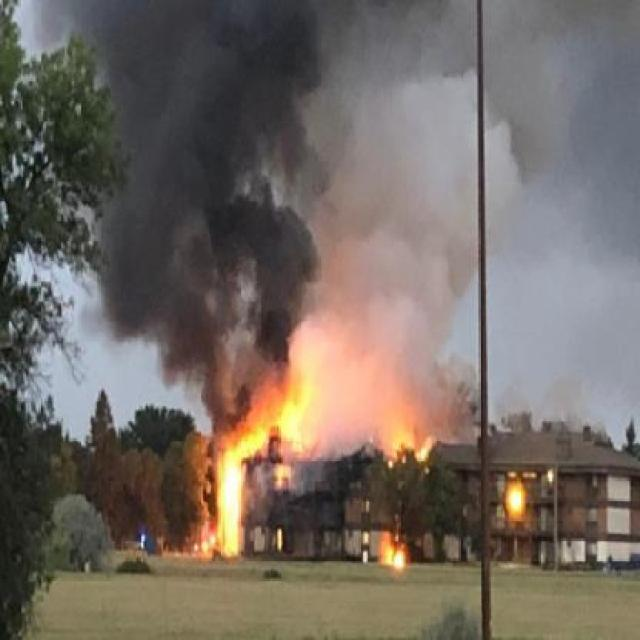Fire: (200, 379, 318, 558), (348, 396, 429, 467), (372, 536, 416, 576), (500, 481, 533, 514)
Smoke: (299, 0, 563, 438), (31, 0, 304, 402)
